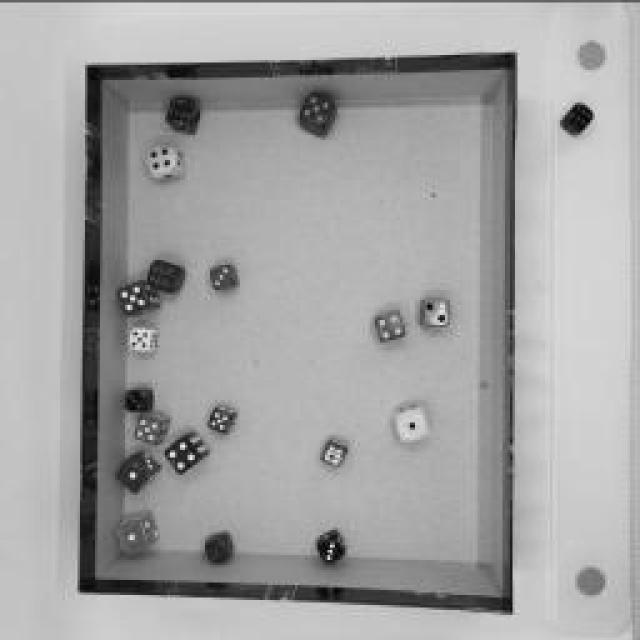dice_1: (112, 508, 162, 558), (114, 449, 164, 496), (391, 402, 434, 442), (202, 529, 238, 566)
dice_2: (420, 295, 452, 327)
dice_3: (314, 525, 351, 565), (209, 260, 241, 292), (124, 385, 156, 415)
dice_4: (161, 429, 214, 476), (145, 140, 190, 185), (372, 307, 410, 345)
dice_5: (298, 90, 340, 140), (116, 278, 166, 320), (131, 408, 174, 448), (128, 324, 162, 354), (206, 405, 239, 435)
dice_6: (145, 255, 187, 297), (165, 95, 203, 137), (320, 439, 350, 469)
